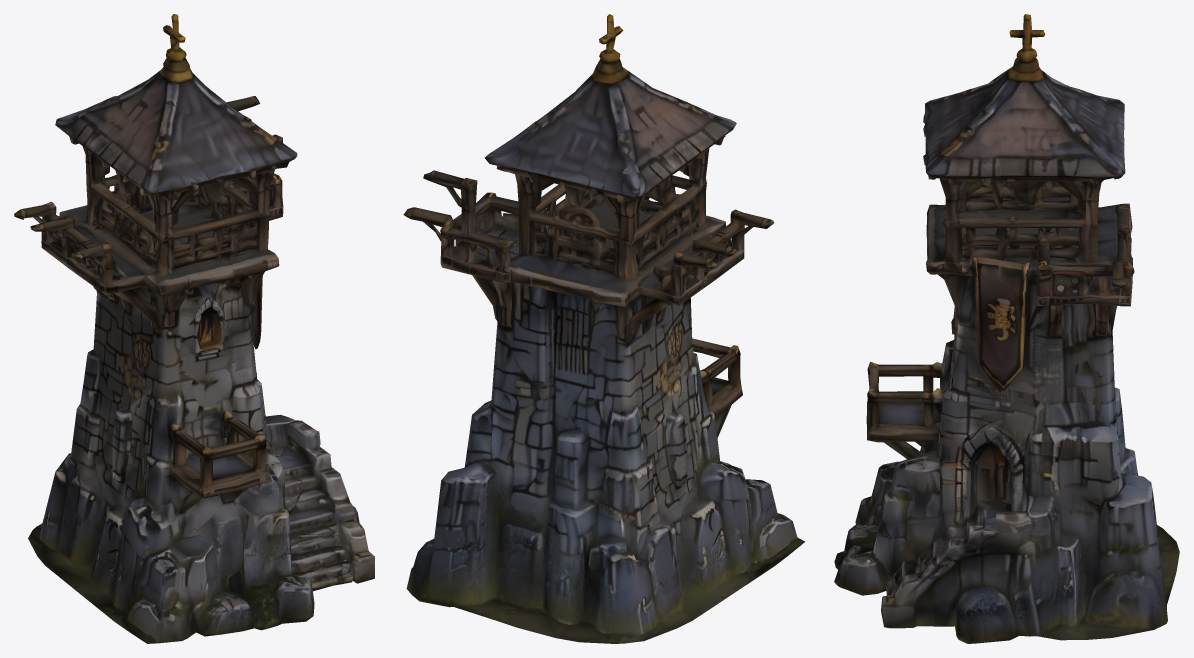
File: n_tower.glb
3 renders of one model, left to right at view 1: azimuth 30°, elevation 25°; view 2: azimuth 150°, elevation 25°; view 3: azimuth 270°, elevation 25°, orthographic. The views are drawn at different scales.
Parts seen in each view (by area): view 1: tripo_node_453efe89-3591-4c3b-b2e4-5956c3554081; view 2: tripo_node_453efe89-3591-4c3b-b2e4-5956c3554081; view 3: tripo_node_453efe89-3591-4c3b-b2e4-5956c3554081.
Part boxes in pixels (x1,y1,x2,y2): tripo_node_453efe89-3591-4c3b-b2e4-5956c3554081: [14, 14, 374, 643]; tripo_node_453efe89-3591-4c3b-b2e4-5956c3554081: [403, 14, 804, 643]; tripo_node_453efe89-3591-4c3b-b2e4-5956c3554081: [834, 14, 1179, 643].
Bounding box in the file's own units: 2.37 × 4.25 × 2.4.
1 material, 1 textured.
